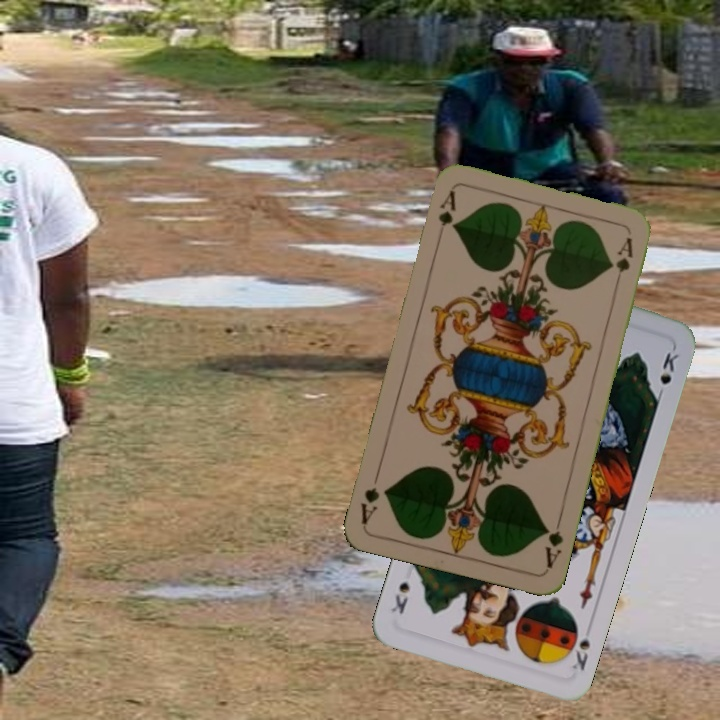GA: (540, 512, 566, 571), (433, 186, 459, 245)
SK: (567, 635, 593, 674)
